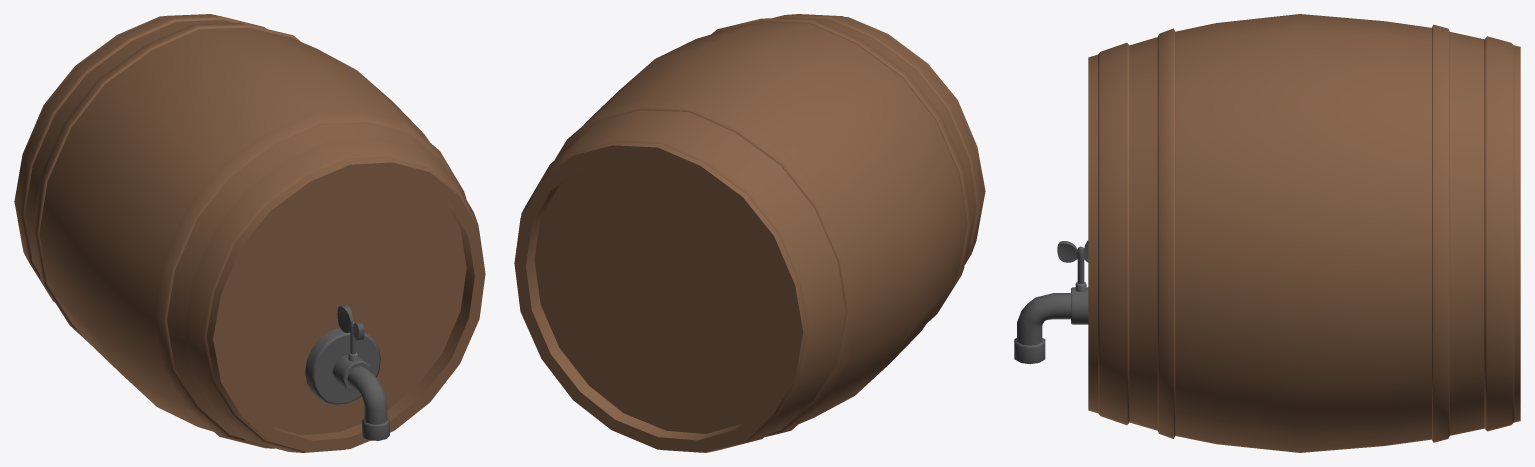
The model's file is tonneaux_robinet.fbx.
The picture shows the model from 3 angles, left to right: view 1: azimuth 30°, elevation 25°; view 2: azimuth 150°, elevation 25°; view 3: azimuth 270°, elevation 25°; orthographic projection. The views are drawn at different scales.
Visible parts, largest first — view 1: tonneau_robinet, poignee; view 2: tonneau_robinet; view 3: tonneau_robinet, poignee.
Part boxes in pixels (x1=…): tonneau_robinet: x1=14, y1=14, x2=485, y2=452; poignee: x1=337, y1=304, x2=364, y2=354; tonneau_robinet: x1=514, y1=14, x2=985, y2=452; tonneau_robinet: x1=1014, y1=14, x2=1520, y2=452; poignee: x1=1057, y1=240, x2=1088, y2=284.
Bounding box in the file's own units: 44.42 × 44.74 × 50.79.
